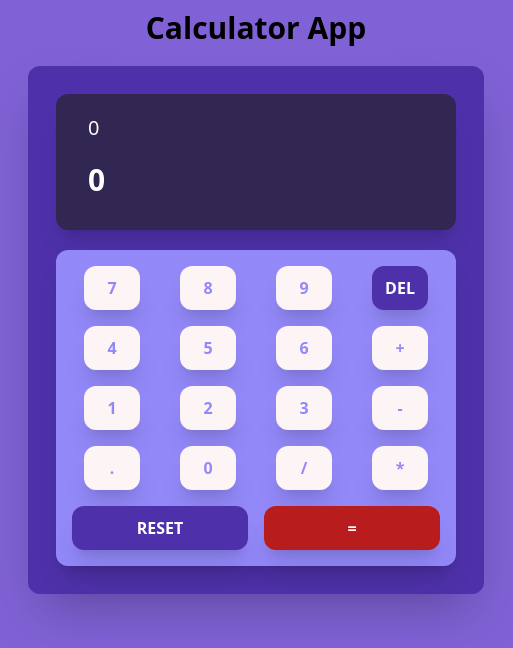
Test: App › testing update function
Click the button "8" at (208, 288), box [180,266,236,310]
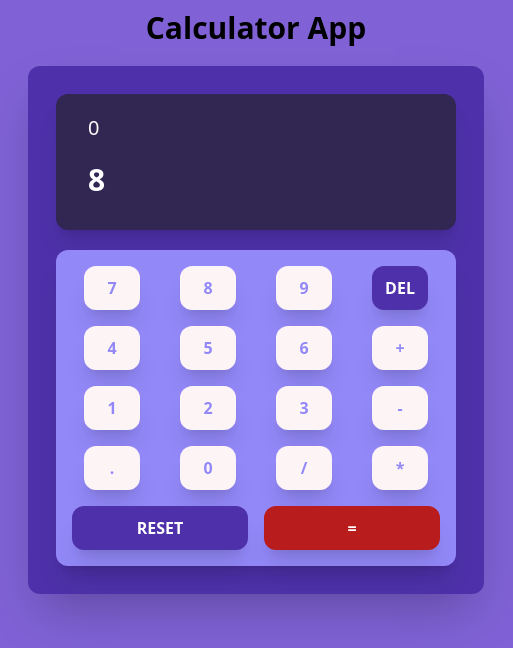
Expected: the text with test id "display" reads "8", [88,159,107,200]
